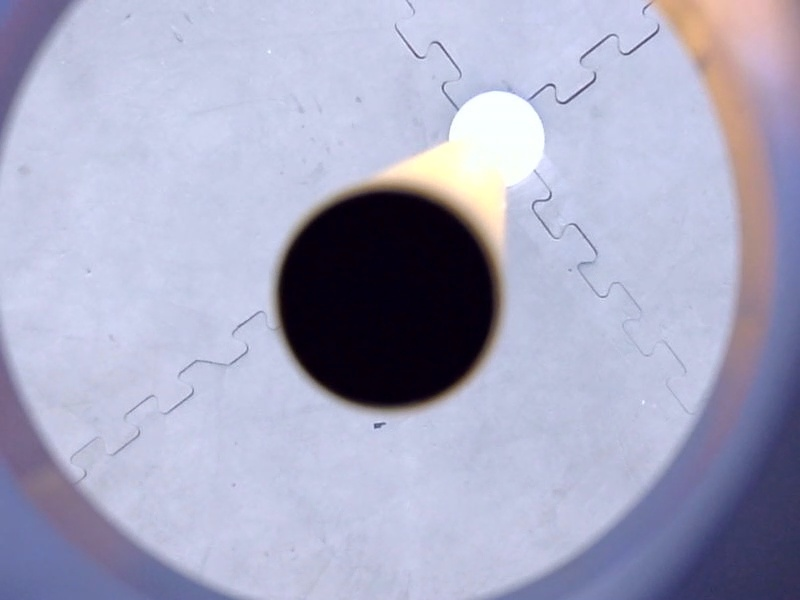tip: (266, 170, 512, 423)
